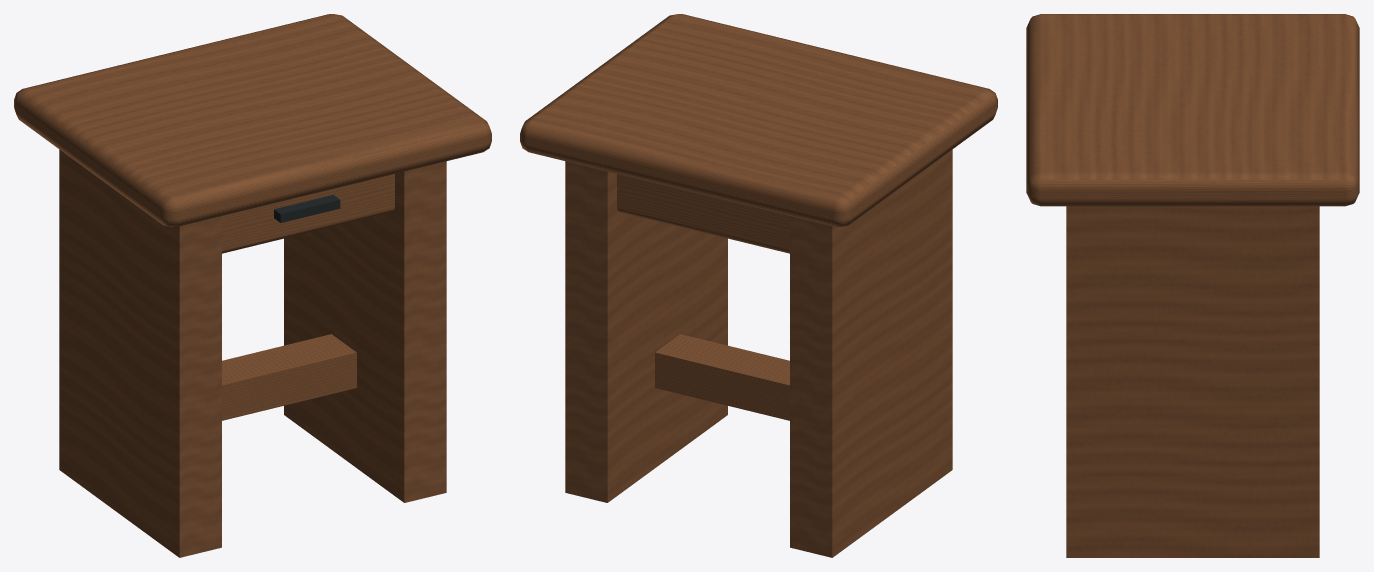
File: night_table_engawa-2638b4e7fb4f.glb
The picture shows the model from 3 angles, left to right: view 1: azimuth 30°, elevation 25°; view 2: azimuth 150°, elevation 25°; view 3: azimuth 270°, elevation 25°; orthographic projection. The views are drawn at different scales.
Parts seen in each view (by area): view 1: surface_walnut, surface_black; view 2: surface_walnut; view 3: surface_walnut.
Boxes of the visible parts, bbox=[...] form: surface_walnut: bbox=[14, 14, 491, 557]; surface_black: bbox=[274, 195, 340, 222]; surface_walnut: bbox=[520, 14, 997, 557]; surface_walnut: bbox=[1026, 14, 1359, 557].
Bounding box in the file's own units: 0.4681 × 0.51 × 0.3884.
2 materials, 1 textured.
